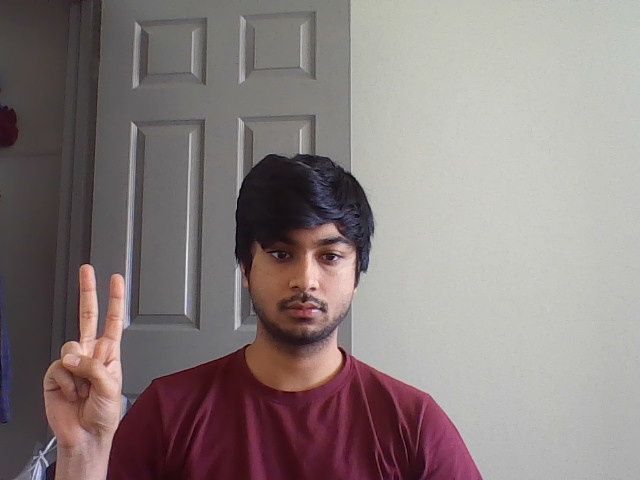two: (69, 258, 131, 368)
